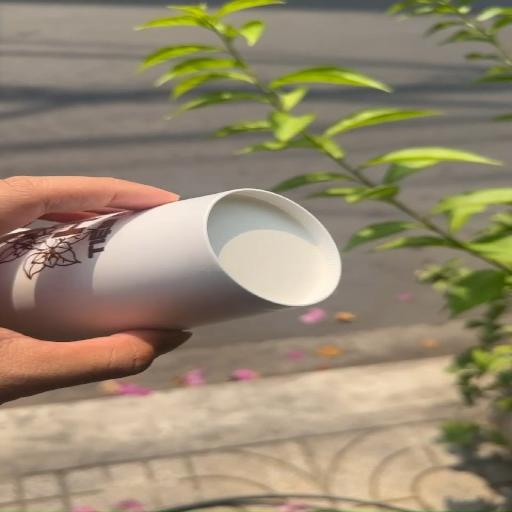Ly_giay: (0, 188, 340, 341)
